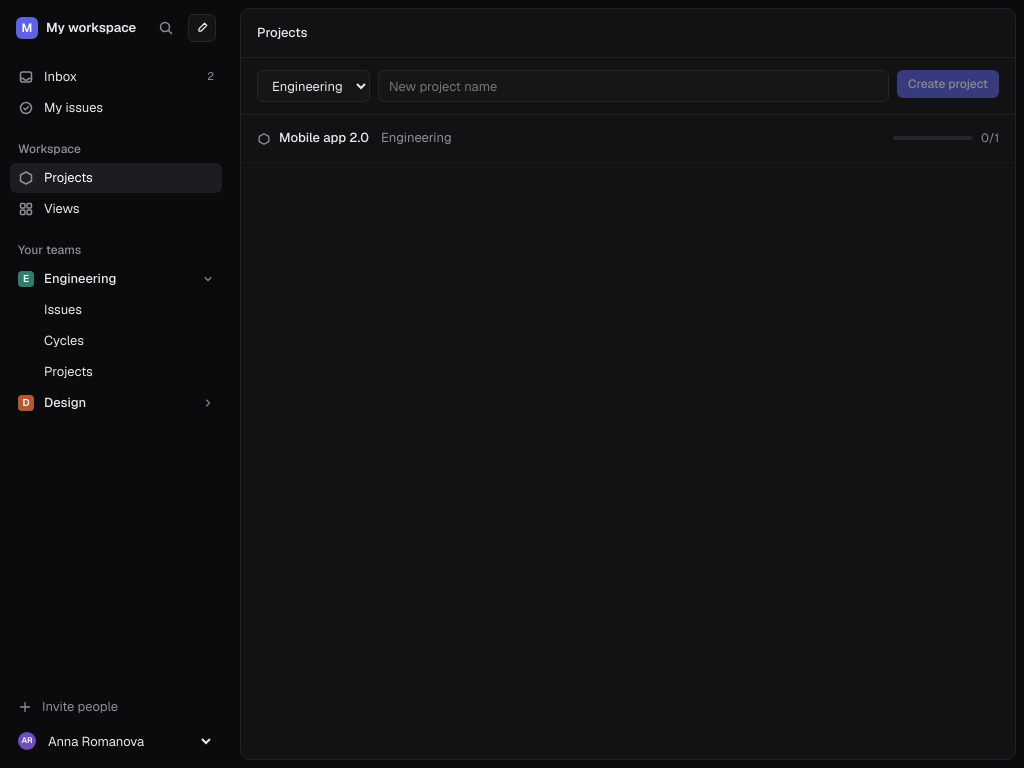
ProjectsPage › creates a project
Check: the link "Mobile app 2.0 Engineering 0/1" is shown, box x1=241 y1=115 x2=1015 y2=163
Step 1. Type "Brand refresh" into the field labelled "New project name" → (633, 86), box x1=378 y1=70 x2=889 y2=102
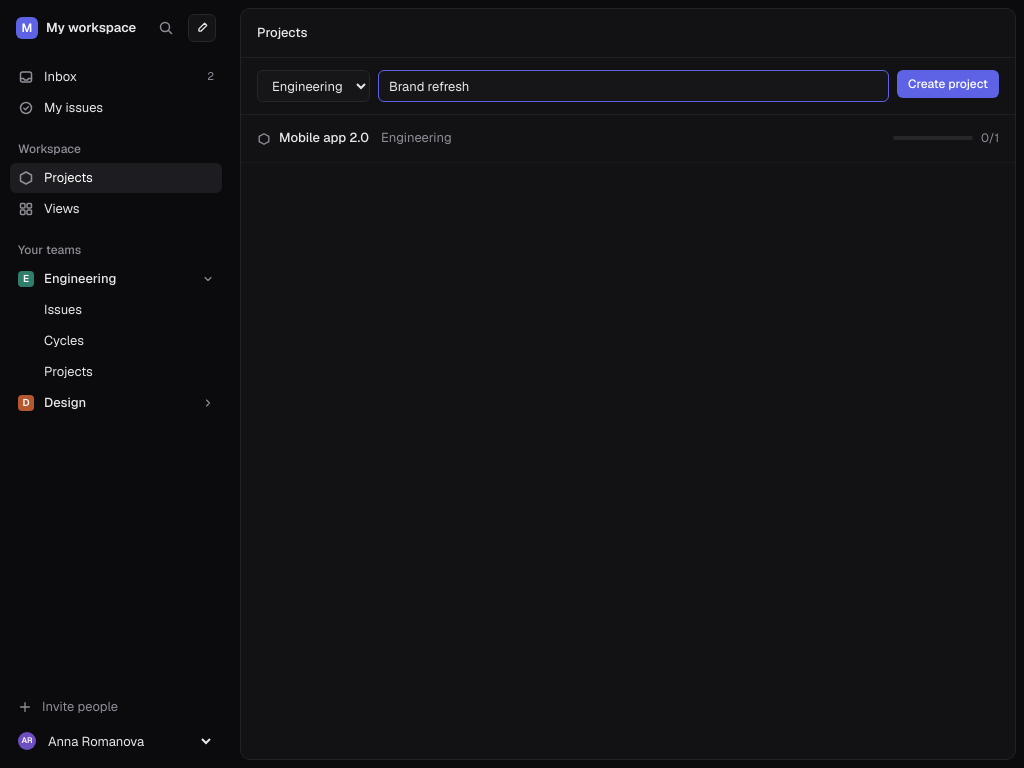
Step 2. Click the button "Create project" → (948, 84), box x1=897 y1=70 x2=999 y2=98
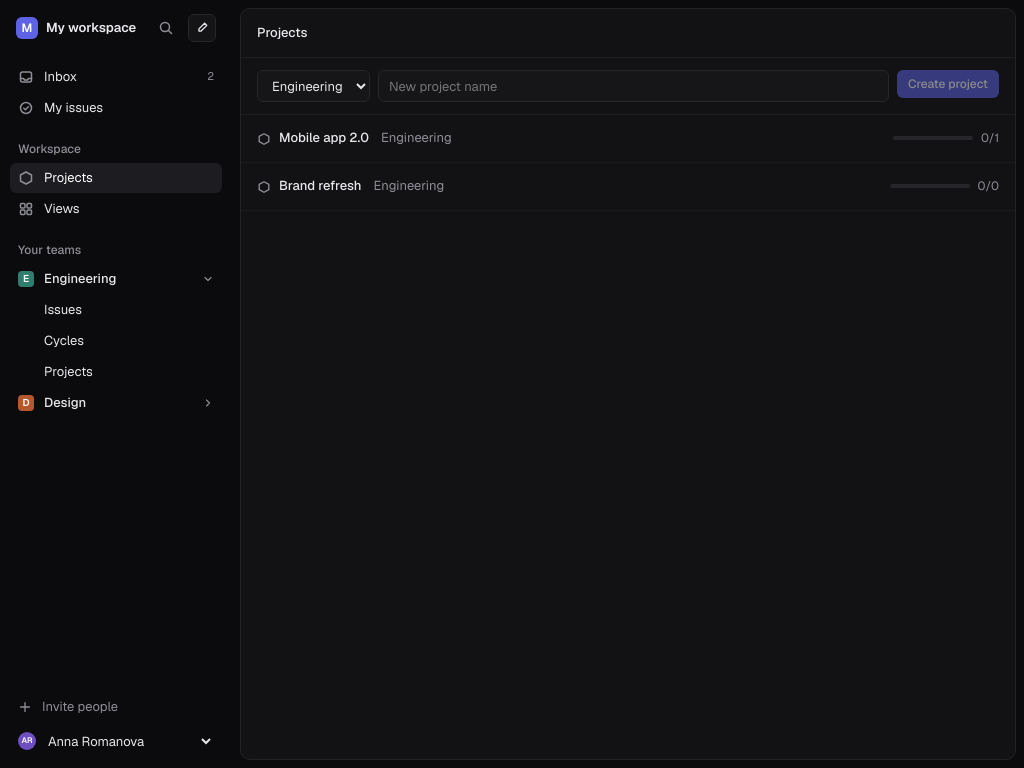
Check: the link "Brand refresh Engineering 0/0" is shown, box x1=241 y1=163 x2=1015 y2=211
